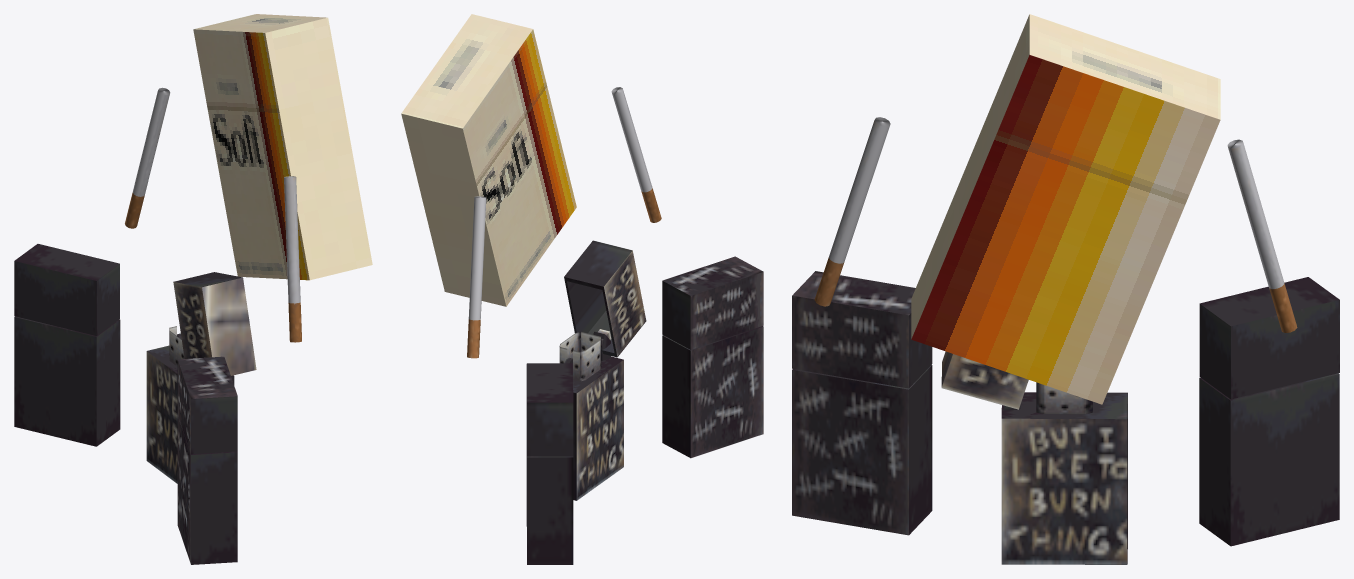
File: psx_style_smoking_pack.glb
3 renders of one model, left to right at view 1: azimuth 30°, elevation 25°; view 2: azimuth 150°, elevation 25°; view 3: azimuth 270°, elevation 25°, orthographic. The views are drawn at different scales.
Visible parts, largest first — view 1: Cigarette Box, Cube.002, Cube.003, Cube, Cube.005, Cube.001, Cube.004, Cigarette 2, Cigarette 1; view 2: Cigarette Box, Cube, Cube.004, Cube.001, Cube.005, Cube.002, Cube.003, Cigarette 1, Cigarette 2; view 3: Cigarette Box, Cube.004, Cube.002, Cube, Cube.003, Cube.001, Cigarette 2, Cigarette 1, Cube.005.
Boxes of the visible parts, box(x1,y1,x2,y2) form: Cigarette Box: box(193, 14, 372, 280); Cube.002: box(14, 316, 120, 446); Cube.003: box(14, 244, 119, 335); Cube: box(177, 415, 237, 564); Cube.005: box(173, 272, 256, 375); Cube.001: box(177, 356, 237, 454); Cube.004: box(146, 326, 234, 483); Cigarette 2: box(284, 176, 301, 342); Cigarette 1: box(125, 87, 170, 228); Cigarette Box: box(401, 14, 576, 306); Cube: box(662, 326, 763, 458); Cube.004: box(559, 331, 623, 500); Cube.001: box(662, 256, 763, 349); Cube.005: box(564, 240, 646, 357); Cube.002: box(526, 418, 573, 564); Cube.003: box(526, 363, 573, 456); Cigarette 1: box(467, 196, 486, 358); Cigarette 2: box(611, 87, 661, 222); Cigarette Box: box(911, 14, 1220, 404); Cube.004: box(1001, 382, 1127, 564); Cube.002: box(1199, 373, 1339, 546); Cube: box(792, 365, 932, 535); Cube.003: box(1199, 277, 1339, 399); Cube.001: box(792, 271, 932, 388); Cigarette 2: box(814, 117, 890, 306); Cigarette 1: box(1227, 139, 1297, 332); Cube.005: box(941, 351, 1028, 409).
Bounding box in the file's own units: 0.8325 × 1.59 × 1.37.
Materials: 3 (3 with a texture image).
